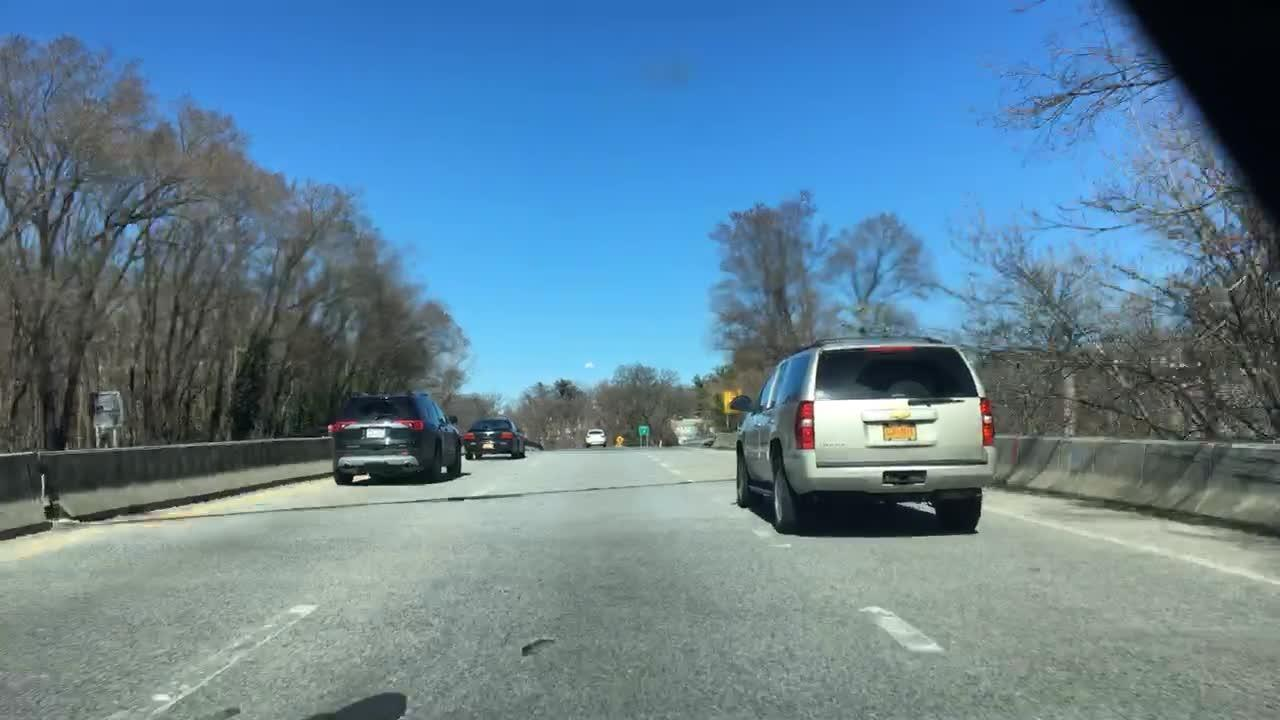chevrolet: (879, 401, 921, 429)
